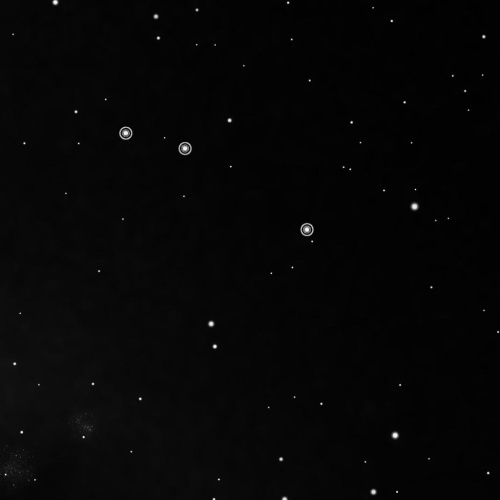vulpecula: (113, 121, 318, 243)
